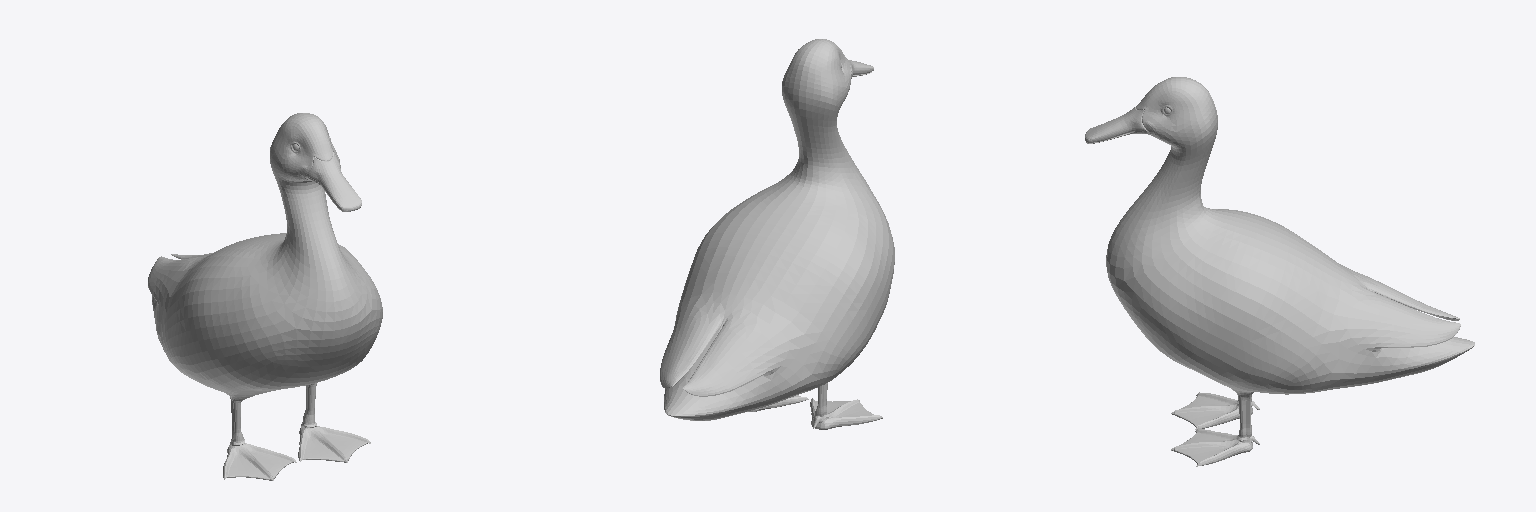
The model's file is pato.obj.
3 renders of one model, left to right at view 1: azimuth 30°, elevation 25°; view 2: azimuth 150°, elevation 25°; view 3: azimuth 270°, elevation 25°, orthographic.
Visible parts, largest first — view 1: _Bird_v1_L2:_Bird_v1; view 2: _Bird_v1_L2:_Bird_v1; view 3: _Bird_v1_L2:_Bird_v1.
Part boxes in pixels (bbox=[...]): _Bird_v1_L2:_Bird_v1: bbox=[148, 113, 382, 480]; _Bird_v1_L2:_Bird_v1: bbox=[660, 39, 894, 429]; _Bird_v1_L2:_Bird_v1: bbox=[1085, 77, 1474, 466].
Size of the model in its own units: 28.45 by 56.47 by 56.51.